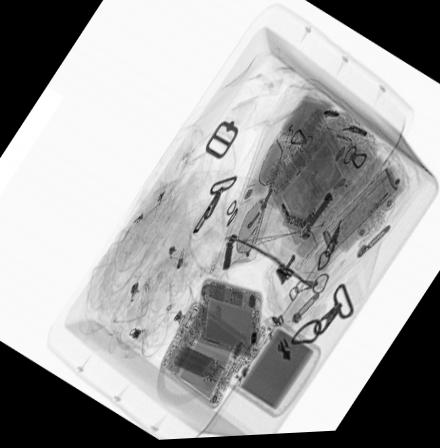Powerbank: (223, 320, 322, 419)
